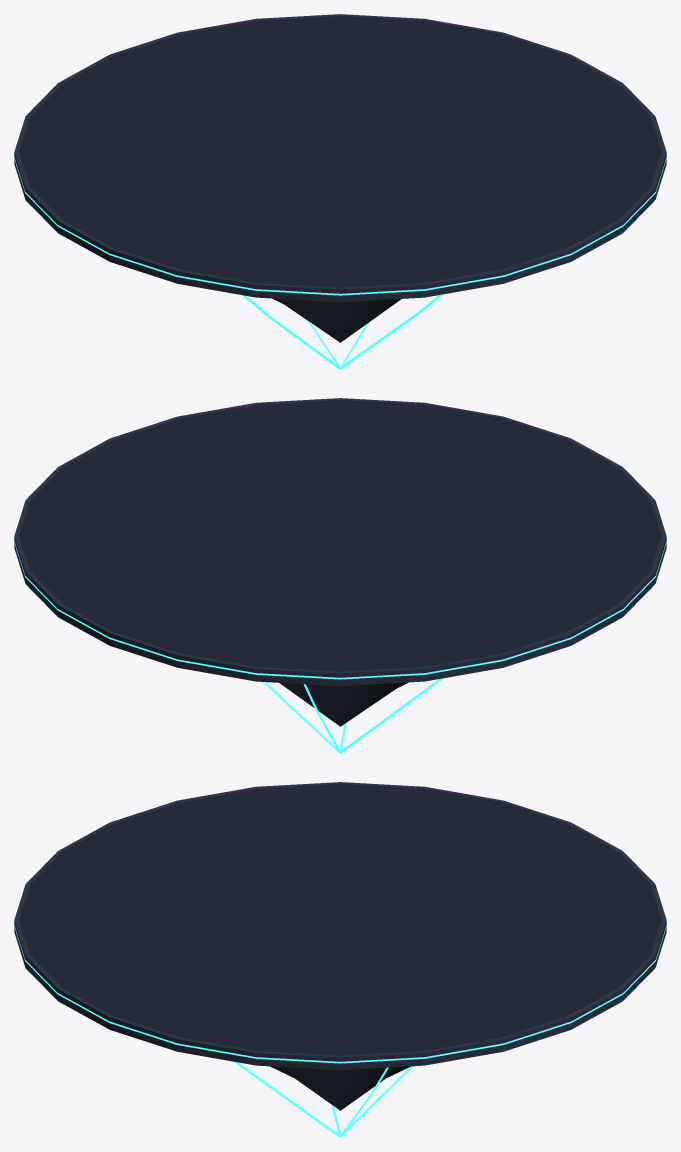
3 views of the same model, one above another, from view 1: azimuth 30°, elevation 25°; view 2: azimuth 150°, elevation 25°; view 3: azimuth 270°, elevation 25° (orthographic).
Visible parts, largest first — view 1: nexo_island.lod1; view 2: nexo_island.lod1; view 3: nexo_island.lod1.
Part boxes in pixels (x1,y1,x2,y2): nexo_island.lod1: [14, 14, 666, 369]; nexo_island.lod1: [14, 398, 666, 753]; nexo_island.lod1: [14, 782, 666, 1137].
Size of the model in its own units: 34.34 by 12.63 by 34.34.
